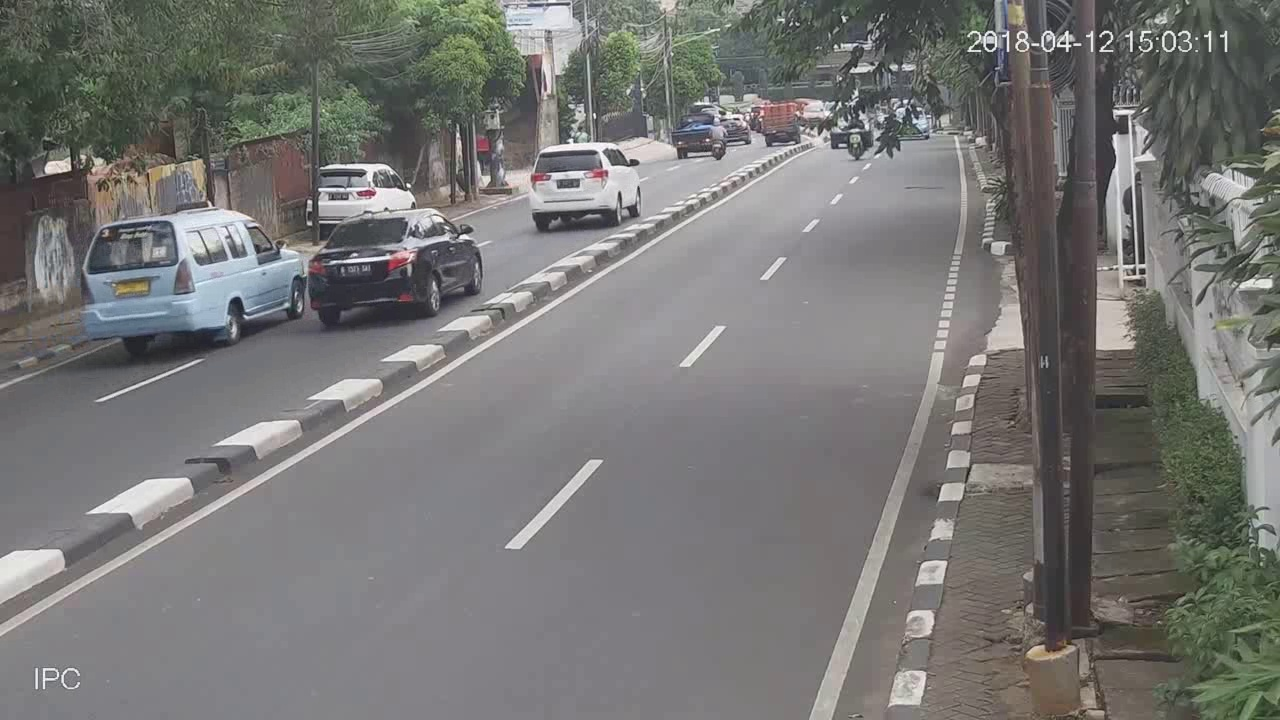car: (76, 201, 308, 356), (303, 205, 487, 322), (522, 141, 644, 230), (300, 156, 422, 211)
